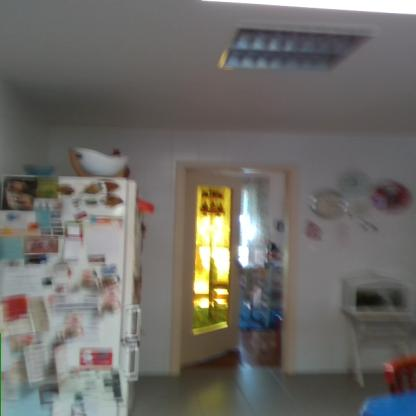closed: (163, 154, 314, 380)
